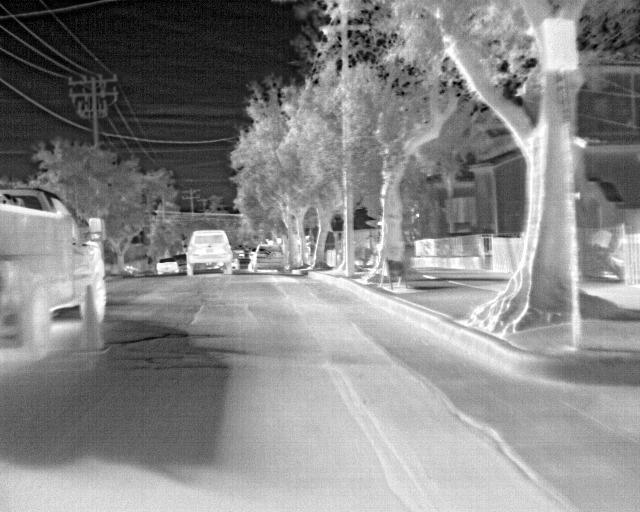car: (1, 187, 107, 357), (185, 229, 232, 277), (250, 243, 286, 272), (155, 256, 178, 277), (236, 249, 251, 271), (175, 253, 189, 269)
